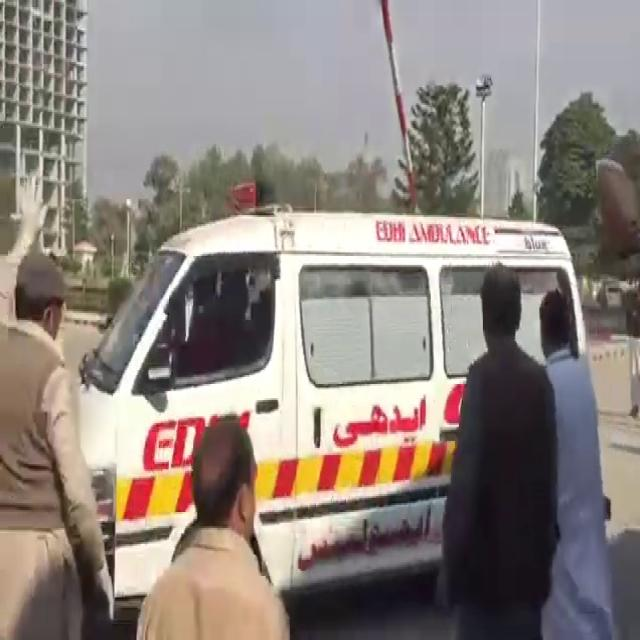ambulance: (70, 182, 612, 588)
